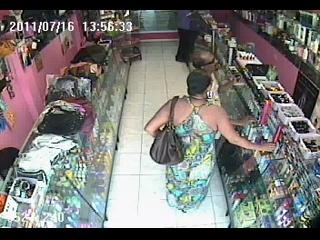Normal: (144, 69, 278, 219), (149, 96, 184, 166), (174, 11, 200, 66)
